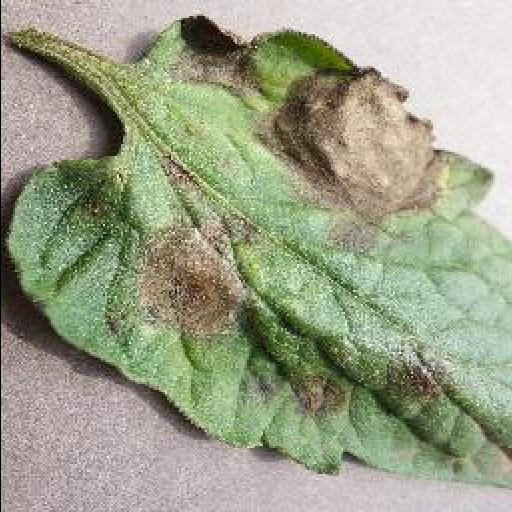disease_tomato: (0, 16, 512, 490)
